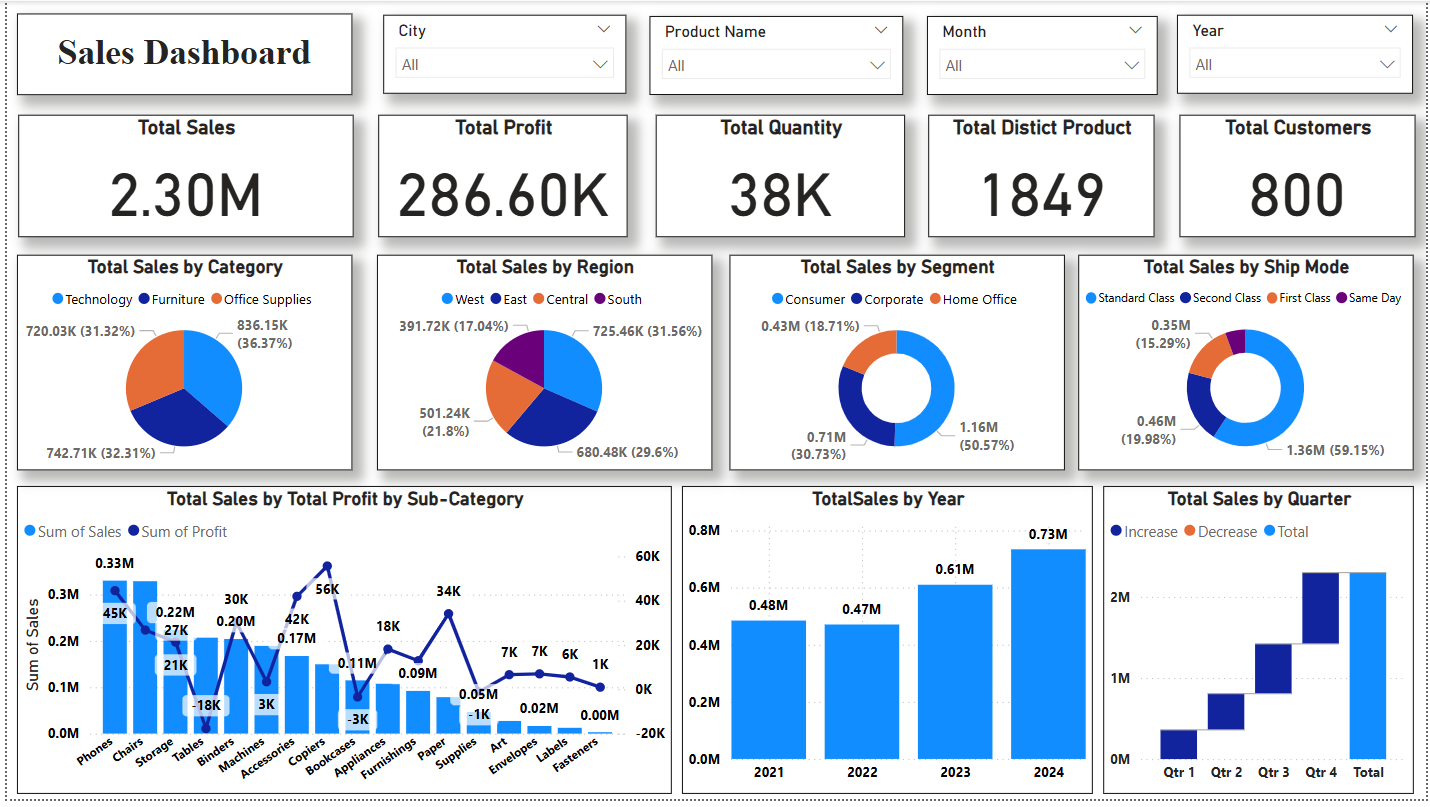

Layout of this report page (visuals, bound fields, positions):
{"tool":"powerbi","page":{"name":"Page 1","canvas":[1280,720],"ordinal":0},"visuals":[{"type":"textbox","box":[8.6,11,302,73.4],"z":0},{"type":"card","title":"Total Sales","fields":{"Values":["Sum(Sales Data.Sales)"]},"box":[9.8,102.7,302,110.1],"z":0,"group":"g1"},{"type":"slicer","fields":{"Values":["Sales Data.City"]},"box":[338.7,12.2,218.9,70.9],"z":1000},{"type":"card","title":"Total Profit","fields":{"Values":["Sum(Sales Data.Profit)"]},"box":[333.9,102.7,225,110.1],"z":1000,"group":"g1"},{"type":"slicer","fields":{"Values":["Sales Data.Product Name"]},"box":[579.6,13.5,228.7,70.9],"z":2000},{"type":"card","title":"Total Quantity","fields":{"Values":["Sum(Sales Data.Quantity)"]},"box":[584.5,102.7,225,110.1],"z":2000,"group":"g1"},{"type":"slicer","fields":{"Values":["Sales Data.Order Date.Variation.Date Hierarchy.Month"]},"box":[829.1,13.5,207.9,70.9],"z":3000},{"type":"card","title":"Total Distict Product","fields":{"Values":["Count(Sales Data.Product Name)"]},"box":[830.3,102.7,204.2,110.1],"z":3000,"group":"g1"},{"type":"slicer","fields":{"Values":["Sales Data.Order Date.Variation.Date Hierarchy.Year"]},"box":[1055.3,12.2,212.8,70.9],"z":4000},{"type":"card","title":"Total Customers","fields":{"Values":["Count(Sales Data.Customer ID)"]},"box":[1056.5,102.7,212.8,110.1],"z":4000,"group":"g1"},{"type":"pieChart","title":"Total Sales by Category","fields":{"Y":["Sum(Sales Data.Sales)"],"Category":["Sales Data.Category"]},"box":[8.6,228.7,302,194.4],"z":5000,"group":"g2"},{"type":"pieChart","title":"Total Sales by Region","fields":{"Y":["Sum(Sales Data.Sales)"],"Category":["Sales Data.Region"]},"box":[332.7,228.7,302,194.4],"z":6000,"group":"g2"},{"type":"donutChart","title":"Total Sales by Segment","fields":{"Y":["Sum(Sales Data.Sales)"],"Category":["Sales Data.Segment"]},"box":[650.6,228.7,302,194.4],"z":7000,"group":"g2"},{"type":"donutChart","title":"Total Sales by Ship Mode","fields":{"Y":["Sum(Sales Data.Sales)"],"Category":["Sales Data.Ship Mode"]},"box":[966.1,228.7,302,194.4],"z":8000,"group":"g2"},{"type":"lineClusteredColumnComboChart","title":"Total Sales by Total Profit by Sub-Category","fields":{"Y":["Sum(Sales Data.Sales)"],"Category":["Sales Data.Sub-Category"],"Y2":["Sum(Sales Data.Profit)"]},"box":[8.6,437.8,590.6,277.6],"z":9000},{"type":"columnChart","title":"TotalSales by Year","fields":{"Y":["Sum(Sales Data.Sales)"],"Category":["Sales Data.Order Date.Variation.Date Hierarchy.Year"]},"box":[609,437.8,370.5,277.6],"z":10000},{"type":"waterfallChart","title":"Total Sales by Quarter","fields":{"Y":["Sum(Sales Data.Sales)"],"Category":["Sales Data.Order Date.Variation.Date Hierarchy.Quarter"]},"box":[988,437.8,280,277.6],"z":11000},{"type":"group","id":"g1","title":"Group 1","box":[9.8,102.7,1259.5,110.1],"z":12000},{"type":"group","id":"g2","title":"Group 2","box":[8.6,228.7,1259.5,194.4],"z":12001}]}

Visuals, with their boxes in screenshot pixels (x1, y1, x2, y2), scaled from the page's 1280x720 canvas onto the 1430x807 screenshot:
textbox: [10, 12, 347, 95]
"Total Sales" card: [11, 115, 348, 239]
slicer - Sales Data.City: [378, 14, 623, 93]
"Total Profit" card: [373, 115, 624, 239]
slicer - Sales Data.Product Name: [648, 15, 903, 95]
"Total Quantity" card: [653, 115, 904, 239]
slicer - Sales Data.Order Date.Variation.Date Hierarchy.Month: [926, 15, 1159, 95]
"Total Distict Product" card: [928, 115, 1156, 239]
slicer - Sales Data.Order Date.Variation.Date Hierarchy.Year: [1179, 14, 1417, 93]
"Total Customers" card: [1180, 115, 1418, 239]
"Total Sales by Category" pieChart: [10, 256, 347, 474]
"Total Sales by Region" pieChart: [372, 256, 709, 474]
"Total Sales by Segment" donutChart: [727, 256, 1064, 474]
"Total Sales by Ship Mode" donutChart: [1079, 256, 1417, 474]
"Total Sales by Total Profit by Sub-Category" lineClusteredColumnComboChart: [10, 491, 669, 802]
"TotalSales by Year" columnChart: [680, 491, 1094, 802]
"Total Sales by Quarter" waterfallChart: [1104, 491, 1417, 802]
"Group 1" group: [11, 115, 1418, 239]
"Group 2" group: [10, 256, 1417, 474]
